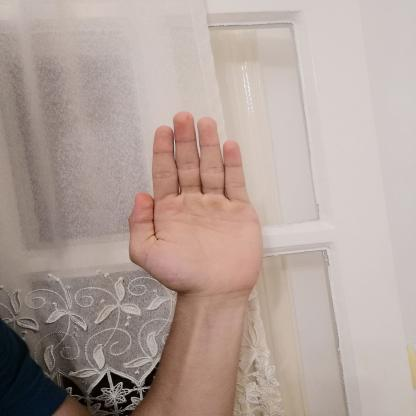SEEN: (112, 104, 272, 305)
